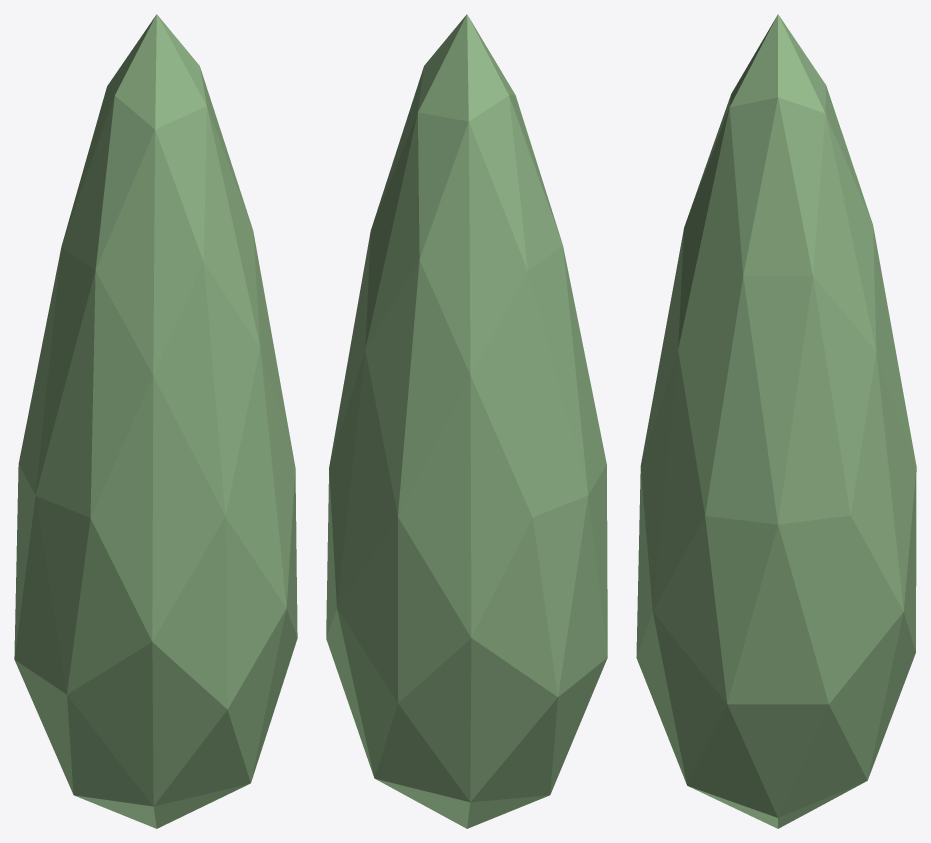
Rendered from tree-conifer-d-crown-far.glb.
The picture shows the model from 3 angles, left to right: view 1: azimuth 30°, elevation 25°; view 2: azimuth 150°, elevation 25°; view 3: azimuth 270°, elevation 25°; orthographic projection.
Visible parts, largest first — view 1: tree-conifer-d-crown-far; view 2: tree-conifer-d-crown-far; view 3: tree-conifer-d-crown-far.
Boxes of the visible parts, x1,y1,x2,y2 form: tree-conifer-d-crown-far: [14, 14, 297, 828]; tree-conifer-d-crown-far: [326, 14, 607, 828]; tree-conifer-d-crown-far: [636, 14, 916, 828].
Bounding box in the file's own units: 0.2513 × 0.8114 × 0.2527.
